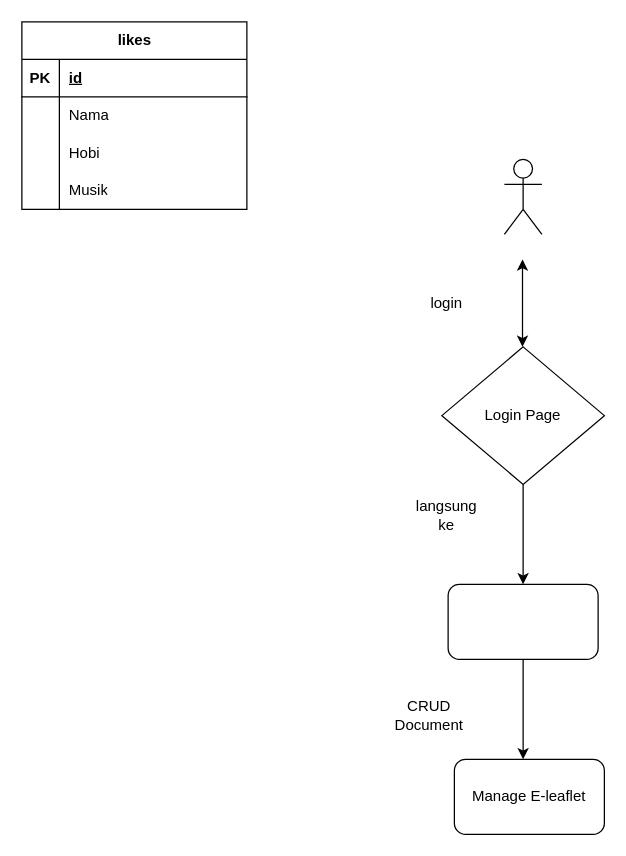
Some shapes in this 626 by 856 pixel diagram are drawn without their labels. Each missing label, with the centre of its shape:
"Atmin" belongs at pixel 522 196.
"E-Leaflet Biofarma" belongs at pixel 522 621.
